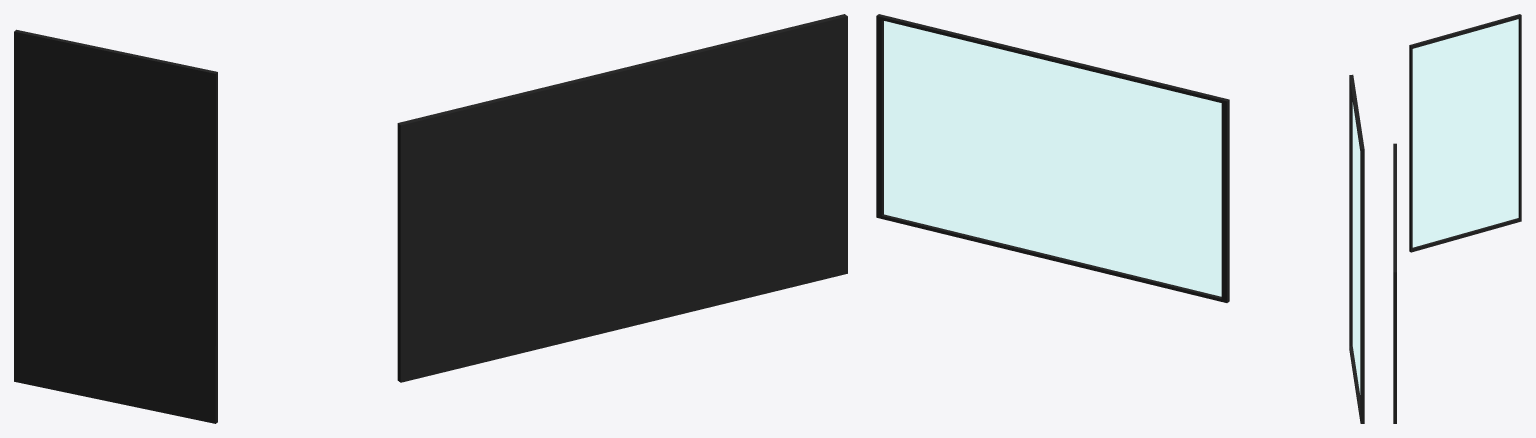
The model's file is monitor.gltf.
The picture shows the model from 3 angles, left to right: view 1: azimuth 30°, elevation 25°; view 2: azimuth 150°, elevation 25°; view 3: azimuth 270°, elevation 25°; orthographic projection. The views are drawn at different scales.
Visible parts, largest first — view 1: Cube.036, Cube.037; view 2: Cube.035, Cube.036, Cube.037, Cube.038; view 3: Cube.038, Cube.037, Cube.036.
Part boxes in pixels (x1,y1,x2,y2): Cube.036: (397,14,847,382); Cube.037: (14,29,217,423); Cube.035: (884,21,1221,296); Cube.036: (876,14,1229,302); Cube.037: (1349,74,1364,423); Cube.038: (1352,102,1360,394); Cube.038: (1412,19,1518,247); Cube.037: (1409,14,1521,252); Cube.036: (1393,143,1396,423).
Size of the model in its own units: 20.22 by 9.31 by 5.24.
